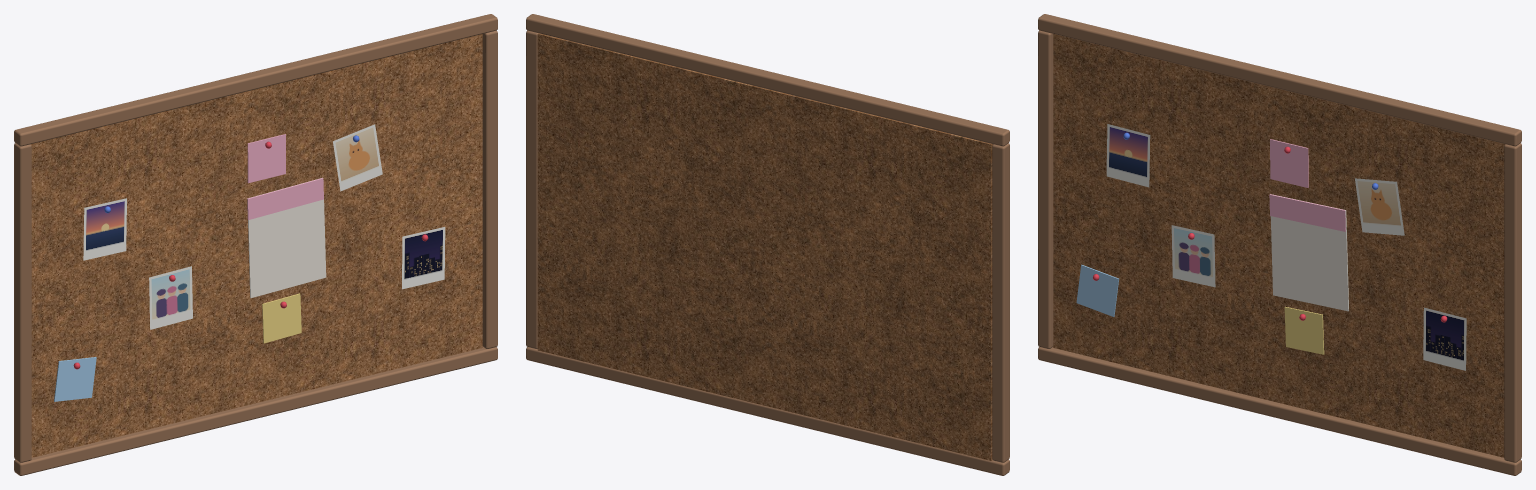
The model's file is pinboard.fbx.
3 views of the same model, side by side, from view 1: azimuth 30°, elevation 25°; view 2: azimuth 150°, elevation 25°; view 3: azimuth 330°, elevation 25° (orthographic).
Visible parts, largest first — view 1: pinboard; view 2: pinboard; view 3: pinboard.
Boxes of the visible parts, x1=… form: pinboard: x1=14, y1=14, x2=497, y2=475; pinboard: x1=526, y1=14, x2=1009, y2=475; pinboard: x1=1038, y1=14, x2=1521, y2=475.
Bounding box in the file's own units: 0.95 × 0.65 × 0.0265.
